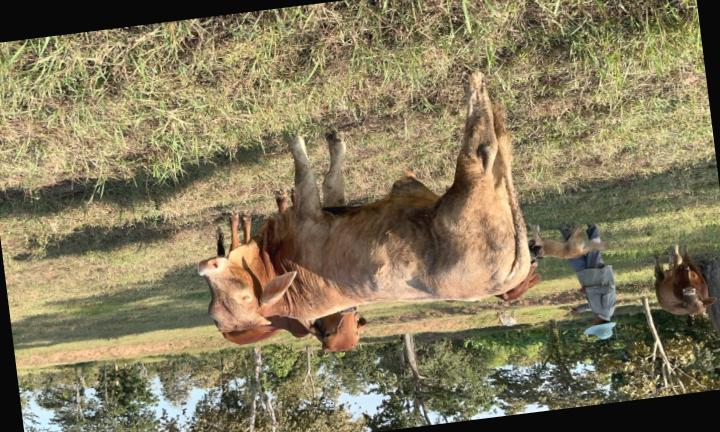Charolais: (198, 73, 530, 332)
